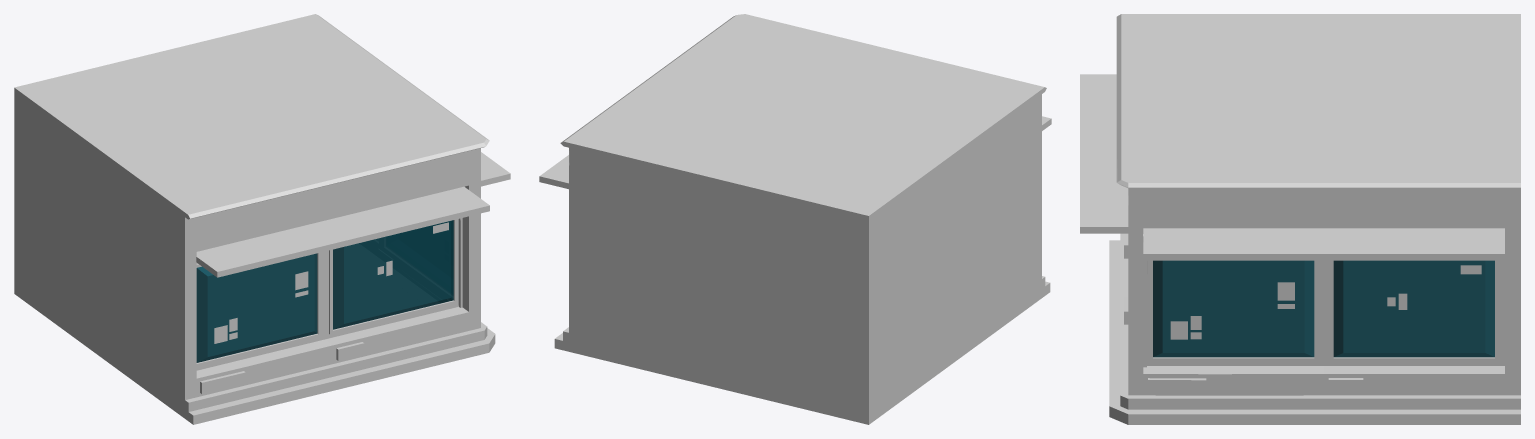
The model's file is building_shop_corner_05.fbx.
3 views of the same model, side by side, from view 1: azimuth 30°, elevation 25°; view 2: azimuth 150°, elevation 25°; view 3: azimuth 270°, elevation 25° (orthographic). The views are drawn at different scales.
Parts seen in each view (by area): view 1: building_shop_corner_05, building_shop_corner_05_glass; view 2: building_shop_corner_05; view 3: building_shop_corner_05, building_shop_corner_05_glass.
Part boxes in pixels (left/top/right/bottom): building_shop_corner_05: left=14, top=14, right=510, bottom=424; building_shop_corner_05_glass: left=196, top=220, right=453, bottom=362; building_shop_corner_05: left=539, top=14, right=1051, bottom=424; building_shop_corner_05: left=1080, top=14, right=1520, bottom=424; building_shop_corner_05_glass: left=1153, top=260, right=1494, bottom=357.
Size of the model in its own units: 673 by 400 by 673.
